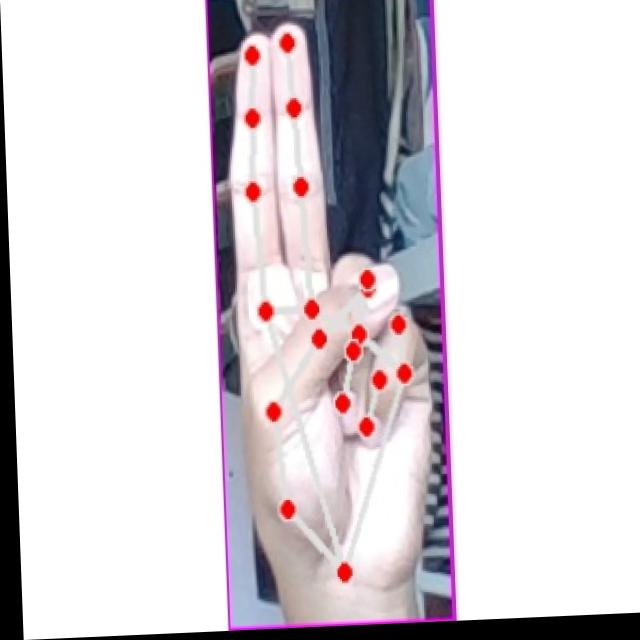U: (223, 11, 432, 611)
